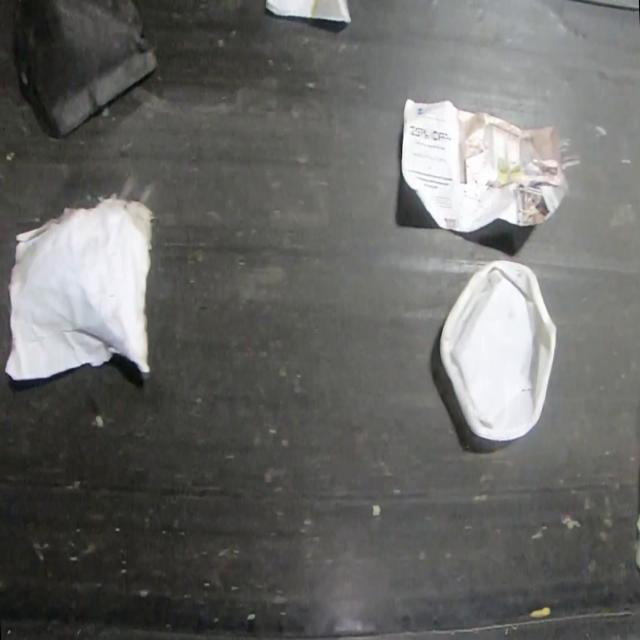rigid_plastic: (438, 259, 556, 442), (12, 0, 158, 137)
